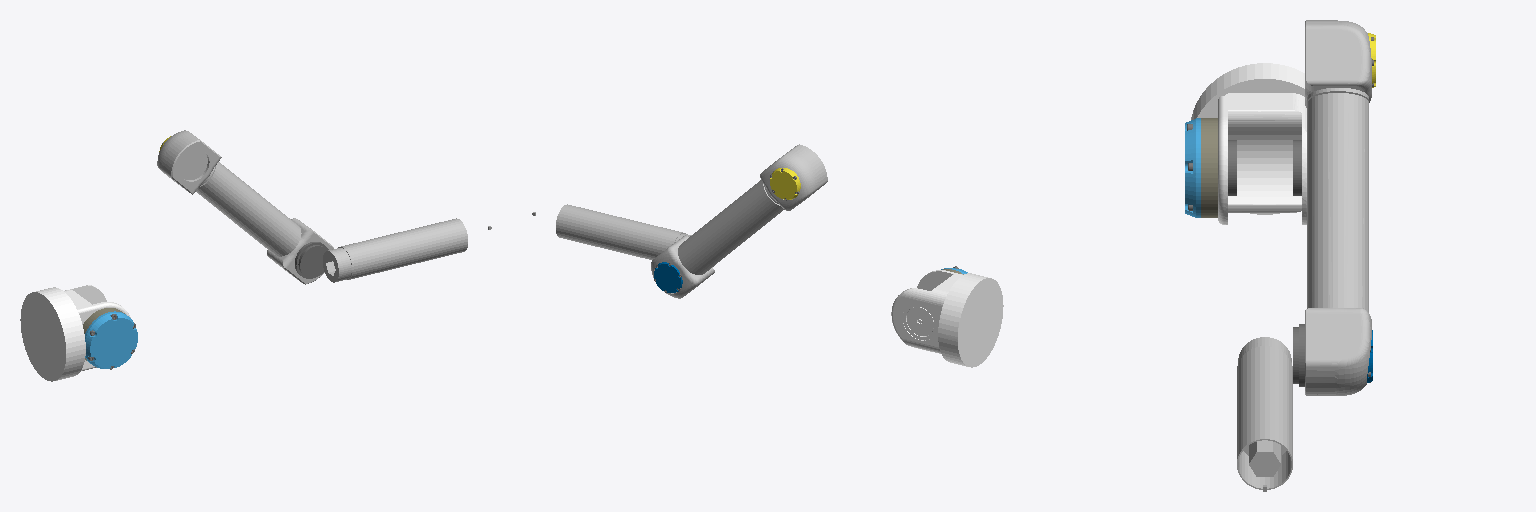
URDF robot description (chaser):
<?xml version="1.0" ?>
<!-- =================================================================================== -->
<!-- |    This document was autogenerated by xacro from chaser_create.urdf.xacro       | -->
<!-- |    EDITING THIS FILE BY HAND IS NOT RECOMMENDED                                 | -->
<!-- =================================================================================== -->
<robot name="chaser" xmlns:xacro="http://ros.org/wiki/xacro">
  <!--scaling factor for maximum velocity - for testing purposes-->
  <!--value="-0.032"-->
  <link name="base_link">
    <inertial>
      <origin rpy="0 0 0" xyz="-0.0017516 -4.7676E-17 -1.6851E-06"/>
      <mass value="255"/>
      <inertia ixx="3.87199388339" ixy="0" ixz="7.527E-07" iyy="3.81565926076" iyz="0" izz="3.81565926004"/>
      <!--ixx="3.872" ixz="7.527E-07" -->
    </inertial>
    <visual>
      <geometry>
        <mesh filename="package://chaser_description/models/robot1.0/meshes/base.dae"/>
      </geometry>
    </visual>
    <collision>
      <geometry>
        <mesh filename="package://chaser_description/models/robot1.0/meshes/base_col.STL"/>
      </geometry>
    </collision>
  </link>
  <link name="arm0">
    <inertial>
      <origin rpy="0 0 0" xyz="5.3585E-09 -0.0072243 0.030704"/>
      <mass value="2.188"/>
      <inertia ixx="0.00399551133" ixy="0" ixz="5.5E-10" iyy="0.00355787709" iyz="-0.00073817117" izz="0.00193246625"/>
    </inertial>
    <visual>
      <geometry>
        <mesh filename="package://chaser_description/models/robot1.0/meshes/arm0.dae"/>
      </geometry>
    </visual>
    <collision>
      <geometry>
        <mesh filename="package://chaser_description/models/robot1.0/meshes/arm0_col.STL"/>
      </geometry>
    </collision>
  </link>
  <link name="arm1">
    <inertial>
      <origin rpy="0 0 0" xyz="0.089479 -3.5914E-05 0.00091428"/>
      <mass value="2.08"/>
      <inertia ixx="0.00042854156" ixy="-6.22362E-06" ixz="0.00031695013" iyy="0.02580489818" iyz="1.9E-10" izz="0.025805"/>
    </inertial>
    <visual>
      <geometry>
        <mesh filename="package://chaser_description/models/robot1.0/meshes/arm1.dae"/>
      </geometry>
    </visual>
    <collision>
      <geometry>
        <mesh filename="package://chaser_description/models/robot1.0/meshes/arm1_col.STL"/>
      </geometry>
    </collision>
  </link>
  <link name="arm2">
    <inertial>
      <origin rpy="0 0 0" xyz="0.0014573 7.1511E-05 0.018982"/>
      <mass value="0.68"/>
      <inertia ixx="0.00041100473" ixy="2.213E-07" ixz="1.783718E-05" iyy="0.00041140107" iyz="8.7529E-07" izz="0.00018778756"/>
    </inertial>
    <visual>
      <geometry>
        <mesh filename="package://chaser_description/models/robot1.0/meshes/arm2.dae"/>
      </geometry>
    </visual>
    <collision>
      <geometry>
        <mesh filename="package://chaser_description/models/robot1.0/meshes/arm2_col.STL"/>
      </geometry>
    </collision>
  </link>
  <link name="arm2_1">
    <inertial>
      <origin rpy="0 0 0" xyz="2.4616E-05 -0.00048515 0.094009"/>
      <mass value="1.403"/>
      <inertia ixx="0.01502106284" ixy="0" ixz="5.17588E-06" iyy="0.01504326724" iyz="-3.01782E-06" izz="0.0002400667"/>
    </inertial>
    <visual>
      <geometry>
        <mesh filename="package://chaser_description/models/robot1.0/meshes/arm2_1.dae"/>
      </geometry>
    </visual>
    <collision>
      <geometry>
        <mesh filename="package://chaser_description/models/robot1.0/meshes/arm2_1_col.STL"/>
      </geometry>
    </collision>
  </link>
  <link name="arm3">
    <inertial>
      <origin rpy="0 0 0" xyz="0.0011084 -1.6282E-17 -0.019487"/>
      <mass value="0.673"/>
      <inertia ixx="0.00038763111" ixy="0" ixz="-1.342736E-05" iyy="0.00038781652" iyz="0" izz="0.00012351201"/>
    </inertial>
    <visual>
      <geometry>
        <mesh filename="package://chaser_description/models/robot1.0/meshes/arm3.dae"/>
      </geometry>
    </visual>
    <collision>
      <geometry>
        <mesh filename="package://chaser_description/models/robot1.0/meshes/arm3_col.STL"/>
      </geometry>
    </collision>
  </link>
  <link name="arm3_1">
    <inertial>
      <origin rpy="0 0 0" xyz="1.1435E-17 -3.4617E-17 0.050778"/>
      <mass value="0.674"/>
      <inertia ixx="0.00240933695" ixy="0" ixz="0" iyy="0.00240933695" iyz="0" izz="7.244164E-05"/>
    </inertial>
    <visual>
      <geometry>
        <mesh filename="package://chaser_description/models/robot1.0/meshes/arm3_1.dae"/>
      </geometry>
    </visual>
    <collision>
      <origin rpy="0 0 0" xyz="0 0 0"/>
      <geometry>
        <mesh filename="package://chaser_description/models/robot1.0/meshes/arm3_1_col.STL"/>
      </geometry>
    </collision>
  </link>
  <link name="hand_base">
    <inertial>
      <origin rpy="0 0 0" xyz="-2.0891E-17 -4.2343E-17 0.026583"/>
      <mass value="1E-6"/>
      <inertia ixx="1.667E-13" ixy="0" ixz="0" iyy="1.667E-13" iyz="0" izz="1.667E-13"/>
    </inertial>
    <visual>
      <geometry>
        <box size="0.0025 0.0025 0.0025"/>
      </geometry>
    </visual>
    <collision name="hand_base">
      <geometry>
        <box size="0.0025 0.0025 0.0025"/>
      </geometry>
    </collision>
  </link>
  <link name="hand">
    <inertial>
      <origin rpy="0 0 0" xyz="-2.0891E-17 -4.2343E-17 0.026583"/>
      <!--xyz="-2.0891E-17 -4.2343E-17 0.026583"-->
      <mass value="0.283"/>
      <inertia ixx="0.00027210077" ixy="0" ixz="0" iyy="0.00027210077" iyz="0" izz="3.1537E-05"/>
    </inertial>
    <visual>
      <geometry>
        <mesh filename="package://chaser_description/models/robot1.0/meshes/hand.dae"/>
      </geometry>
    </visual>
    <collision>
      <!--it is necessary to name the collision to be able to use the contact sensor-->
      <geometry>
        <mesh filename="package://chaser_description/models/robot1.0/meshes/hand_col.STL"/>
      </geometry>
    </collision>
  </link>
  <joint name="j1" type="revolute">
    <origin rpy="0 1.5708 0" xyz="0.10324 0 0"/>
    <parent link="base_link"/>
    <child link="arm0"/>
    <axis xyz="0 0 1"/>
    <limit effort="10" lower="-3.2289" upper="3.2289" velocity="2443.5"/>
    <calibration rising="0.0"/>
    <dynamics damping="0.2" friction="0.5"/>
    <safety_controller k_position="15" k_velocity="10" soft_lower_limit="-2.90601" soft_upper_limit="2.90601"/>
  </joint>
  <transmission name="j1_trans">
    <type>transmission_interface/SimpleTransmission</type>
    <joint name="j1">
      <hardwareInterface>EffortJointInterface</hardwareInterface>
    </joint>
    <actuator name="j1_motor">
      <hardwareInterface>EffortJointInterface</hardwareInterface>
      <mechanicalReduction>1</mechanicalReduction>
    </actuator>
  </transmission>
  <joint name="j2" type="revolute">
    <origin rpy="1.5708 -0.7854 -3.1416" xyz="0 0 0.0467"/>
    <parent link="arm0"/>
    <child link="arm1"/>
    <axis xyz="0 0 1"/>
    <limit effort="10000000.0" lower="-0.59341" upper="2.1642" velocity="2199.1"/>
    <calibration rising="0.0"/>
    <dynamics damping="0.2" friction="0.5"/>
    <safety_controller k_position="15" k_velocity="10" soft_lower_limit="-0.534069" soft_upper_limit="1.94778"/>
  </joint>
  <transmission name="j2_trans">
    <type>transmission_interface/SimpleTransmission</type>
    <joint name="j2">
      <hardwareInterface>EffortJointInterface</hardwareInterface>
    </joint>
    <actuator name="j2_motor">
      <hardwareInterface>EffortJointInterface</hardwareInterface>
      <mechanicalReduction>1</mechanicalReduction>
    </actuator>
  </transmission>
  <joint name="j3" type="revolute">
    <origin rpy="0 0 1.5708" xyz="0.16667 0 0.021"/>
    <parent link="arm1"/>
    <child link="arm2"/>
    <axis xyz="0 0 1"/>
    <limit effort="10000000.0" lower="-4.311" upper="1.1694" velocity="2199.1"/>
    <calibration rising="0.0"/>
    <dynamics damping="0.2" friction="0.5"/>
    <safety_controller k_position="15" k_velocity="10" soft_lower_limit="-3.8799" soft_upper_limit="1.05246"/>
  </joint>
  <transmission name="j3_trans">
    <type>transmission_interface/SimpleTransmission</type>
    <joint name="j3">
      <hardwareInterface>EffortJointInterface</hardwareInterface>
    </joint>
    <actuator name="j3_motor">
      <hardwareInterface>EffortJointInterface</hardwareInterface>
      <mechanicalReduction>1</mechanicalReduction>
    </actuator>
  </transmission>
  <joint name="j4" type="revolute">
    <origin rpy="1.5708 0 1.5708" xyz="0.021 0 0.018"/>
    <parent link="arm2"/>
    <child link="arm2_1"/>
    <axis xyz="0 0 1"/>
    <limit effort="10000000.0" lower="-6.1087" upper="6.1087" velocity="4537.9"/>
    <!--symmetric-->
    <calibration rising="0.0"/>
    <dynamics damping="0.2" friction="0.5"/>
    <safety_controller k_position="15" k_velocity="10" soft_lower_limit="-5.49783" soft_upper_limit="5.49783"/>
    <!--symmetric-->
  </joint>
  <transmission name="j4_trans">
    <type>transmission_interface/SimpleTransmission</type>
    <joint name="j4">
      <hardwareInterface>EffortJointInterface</hardwareInterface>
    </joint>
    <actuator name="j4_motor">
      <hardwareInterface>EffortJointInterface</hardwareInterface>
      <mechanicalReduction>1</mechanicalReduction>
    </actuator>
  </transmission>
  <joint name="j5" type="revolute">
    <origin rpy="1.5708 -0.78541 3.1416" xyz="0 -0.021 0.14567"/>
    <parent link="arm2_1"/>
    <child link="arm3"/>
    <axis xyz="0 0 1"/>
    <limit effort="10000000.0" lower="-2.0595" upper="3.6303" velocity="4276.1"/>
    <calibration rising="0.0"/>
    <dynamics damping="0.2" friction="0.5"/>
    <safety_controller k_position="15" k_velocity="10" soft_lower_limit="-1.85355" soft_upper_limit="3.26727"/>
  </joint>
  <transmission name="j5_trans">
    <type>transmission_interface/SimpleTransmission</type>
    <joint name="j5">
      <hardwareInterface>EffortJointInterface</hardwareInterface>
    </joint>
    <actuator name="j5_motor">
      <hardwareInterface>EffortJointInterface</hardwareInterface>
      <mechanicalReduction>1</mechanicalReduction>
    </actuator>
  </transmission>
  <joint name="j6" type="revolute">
    <origin rpy="1.5708 0 1.5708" xyz="0.01717 0 -0.018"/>
    <parent link="arm3"/>
    <child link="arm3_1"/>
    <axis xyz="0 0 1"/>
    <limit effort="10000000.0" lower="-6.1087" upper="6.1087" velocity="5620.0"/>
    <!--symmetric and equal to j4-->
    <calibration rising="0.0"/>
    <dynamics damping="0.2" friction="0.5"/>
    <safety_controller k_position="15" k_velocity="10" soft_lower_limit="-5.49783" soft_upper_limit="5.49783"/>
    <!--symmetric-->
  </joint>
  <transmission name="j6_trans">
    <type>transmission_interface/SimpleTransmission</type>
    <joint name="j6">
      <hardwareInterface>EffortJointInterface</hardwareInterface>
    </joint>
    <actuator name="j6_motor">
      <hardwareInterface>EffortJointInterface</hardwareInterface>
      <mechanicalReduction>1</mechanicalReduction>
    </actuator>
  </transmission>
  <joint name="f1" type="prismatic">
    <origin rpy="0 0 0" xyz="0 0 -0.16"/>
    <!-- xyz="0 0 0.12 ->0.1175"-->
    <parent link="hand_base"/>
    <child link="hand"/>
    <axis xyz="0 0 1"/>
    <limit effort="10000000.0" lower="0.00" upper="0.00" velocity="0"/>
  </joint>
  <joint name="d1" type="prismatic">
    <origin rpy="0 0 0" xyz="0 0 0.15"/>
    <!-- xyz="0 0 0.12"     0.235=2*0.1175-->
    <parent link="arm3_1"/>
    <child link="hand_base"/>
    <axis xyz="0 0 1"/>
    <limit effort="10000000.0" lower="-0.032" upper="0.00" velocity="2500.0"/>
    <dynamics damping="1.4" friction="0.0"/>
    <!-- 1.4 , 2.7 -->
    <!--spring stiffness is implemented in a plugin-->
  </joint>
  <transmission name="d1_trans">
    <type>transmission_interface/SimpleTransmission</type>
    <joint name="d1">
      <hardwareInterface>EffortJointInterface</hardwareInterface>
    </joint>
    <actuator name="d1_motor">
      <hardwareInterface>EffortJointInterface</hardwareInterface>
      <mechanicalReduction>1</mechanicalReduction>
    </actuator>
  </transmission>
  <!--dummy effort joint interface-->
  <transmission name="f1_trans">
    <type>transmission_interface/SimpleTransmission</type>
    <joint name="f1">
      <hardwareInterface>EffortJointInterface</hardwareInterface>
    </joint>
    <actuator name="f1_motor">
      <hardwareInterface>EffortJointInterface</hardwareInterface>
      <mechanicalReduction>1</mechanicalReduction>
    </actuator>
  </transmission>
  <!--dummy effort joint interface-->
  <link name="world"/>
  <!-- Attach the model to Gazebo-->
  <joint name="base_joint" type="fixed">
    <parent link="world"/>
    <child link="base_link"/>
  </joint>
  <!--ROS CONTROL PLUGIN-->
  <gazebo>
    <plugin filename="libgazebo_ros_control.so" name="gazebo_ros_control">
      <robotNamespace>/chaser</robotNamespace>
      <robotSimType>gazebo_ros_control/DefaultRobotHWSim</robotSimType>
    </plugin>
  </gazebo>
  <gazebo reference="base_link">
    <mu1>0.2</mu1>
    <mu2>0.2</mu2>
    <kp>2147483647.0</kp>
    <kd>1</kd>
    <selfCollide>false</selfCollide>
    <maxVel>0.01</maxVel>
    <minDepth>0.003</minDepth>
  </gazebo>
  <gazebo reference="arm0">
    <mu1>0.2</mu1>
    <mu2>0.2</mu2>
    <kp>2147483647.0</kp>
    <kd>1</kd>
    <selfCollide>false</selfCollide>
    <maxVel>0.01</maxVel>
    <minDepth>0.003</minDepth>
  </gazebo>
  <gazebo reference="arm1">
    <mu1>0.2</mu1>
    <mu2>0.2</mu2>
    <kp>2147483647.0</kp>
    <kd>1</kd>
    <selfCollide>false</selfCollide>
    <maxVel>0.01</maxVel>
    <minDepth>0.003</minDepth>
  </gazebo>
  <gazebo reference="arm2">
    <mu1>0.2</mu1>
    <mu2>0.2</mu2>
    <kp>2147483647.0</kp>
    <kd>1</kd>
    <selfCollide>false</selfCollide>
    <maxVel>0.01</maxVel>
    <minDepth>0.003</minDepth>
  </gazebo>
  <gazebo reference="arm2_1">
    <mu1>0.2</mu1>
    <mu2>0.2</mu2>
    <kp>2147483647.0</kp>
    <kd>1</kd>
    <selfCollide>false</selfCollide>
    <maxVel>0.01</maxVel>
    <minDepth>0.003</minDepth>
  </gazebo>
  <gazebo reference="arm3">
    <mu1>0.2</mu1>
    <mu2>0.2</mu2>
    <kp>2147483647.0</kp>
    <kd>1</kd>
    <selfCollide>false</selfCollide>
    <maxVel>0.01</maxVel>
    <minDepth>0.003</minDepth>
  </gazebo>
  <gazebo reference="arm3_1">
    <mu1>0.2</mu1>
    <mu2>0.2</mu2>
    <kp>2147483647.0</kp>
    <kd>1</kd>
    <selfCollide>false</selfCollide>
    <maxVel>0.01</maxVel>
    <minDepth>0.003</minDepth>
  </gazebo>
  <gazebo reference="hand">
    <mu1>0.2</mu1>
    <mu2>0.2</mu2>
    <kp>2147483647.0</kp>
    <kd>1</kd>
    <selfCollide>false</selfCollide>
    <maxVel>0.01</maxVel>
    <minDepth>0.003</minDepth>
  </gazebo>
  <!--GAZEBO PHYSICS IN JOINTS-->
  <gazebo reference="j1">
    <implicitSpringDamper>1</implicitSpringDamper>
    <provideFeedback>1</provideFeedback>
  </gazebo>
  <gazebo reference="j2">
    <implicitSpringDamper>1</implicitSpringDamper>
    <provideFeedback>1</provideFeedback>
  </gazebo>
  <gazebo reference="j3">
    <implicitSpringDamper>1</implicitSpringDamper>
    <provideFeedback>1</provideFeedback>
  </gazebo>
  <gazebo reference="j4">
    <implicitSpringDamper>1</implicitSpringDamper>
    <provideFeedback>1</provideFeedback>
  </gazebo>
  <gazebo reference="j5">
    <implicitSpringDamper>1</implicitSpringDamper>
    <provideFeedback>1</provideFeedback>
  </gazebo>
  <gazebo reference="j6">
    <implicitSpringDamper>1</implicitSpringDamper>
    <provideFeedback>1</provideFeedback>
  </gazebo>
  <gazebo reference="d1">
    <implicitSpringDamper>1</implicitSpringDamper>
    <provideFeedback>1</provideFeedback>
  </gazebo>
  <gazebo reference="f1">
    <implicitSpringDamper>1</implicitSpringDamper>
    <provideFeedback>1</provideFeedback>
  </gazebo>
  <!--PLUGIN FOR COMPLIANT WRIST (SPRING) -->
  <gazebo>
    <plugin filename="libcompliant_wrist.so" name="compliant_wrist"/>
  </gazebo>
  <gazebo reference="hand">
    <sensor name="hand_contact_sensor" type="contact">
      <contact>
        <collision>hand_collision</collision>
      </contact>
      <plugin filename="libgazebo_ros_bumper.so" name="hand_gazebo_ros_bumper_controller">
        <alwaysOn>true</alwaysOn>
        <updateRate>30</updateRate>
        <bumperTopicName>chaser/hand_bumper</bumperTopicName>
        <frameName>world</frameName>
      </plugin>
    </sensor>
  </gazebo>
  <!--FORCE TORQUE SENSOR PLUGIN-->
  <!--xacro:ft_sensor name="s1" update_rate="${upd_rate}"/-->
</robot>
<!--parent link="world"/-->

--- Facts derived from the render (not from the file) ---
3 views of the same robot in one strip: view 1: azimuth 30°, elevation 25°; view 2: azimuth 150°, elevation 25°; view 3: azimuth 270°, elevation 25° (orthographic).
Model chaser with 10 links and 9 joints (6 revolute, 2 prismatic, 1 fixed), rooted at world, posed every joint at zero.
Visible links, largest first — view 1: arm0, arm2_1, arm3_1, arm2, hand; view 2: arm0, arm2_1, arm3_1, arm2; view 3: arm2_1, arm0, arm3_1, arm2.
Link boxes in pixels (x1,y1,x2,y2): arm0: (20, 285, 137, 381); arm2_1: (196, 162, 333, 284); arm3_1: (338, 218, 467, 279); arm2: (157, 130, 221, 194); hand: (323, 248, 351, 282); arm0: (891, 266, 1003, 367); arm2_1: (651, 180, 784, 298); arm3_1: (556, 204, 685, 259); arm2: (760, 144, 827, 210); arm2_1: (1293, 93, 1372, 395); arm0: (1185, 63, 1306, 224); arm3_1: (1237, 346, 1292, 489); arm2: (1305, 20, 1375, 107).
Bounding box of the posed robot: 0.4508 × 0.1021 × 0.1811 m (x, y, z).
Meshes: 8 distinct files referenced, 5 mesh visuals loaded (5 Collada DAE); not drawn: 1 (reference not matched to a file when rendering), 2 (file found but could not be loaded).